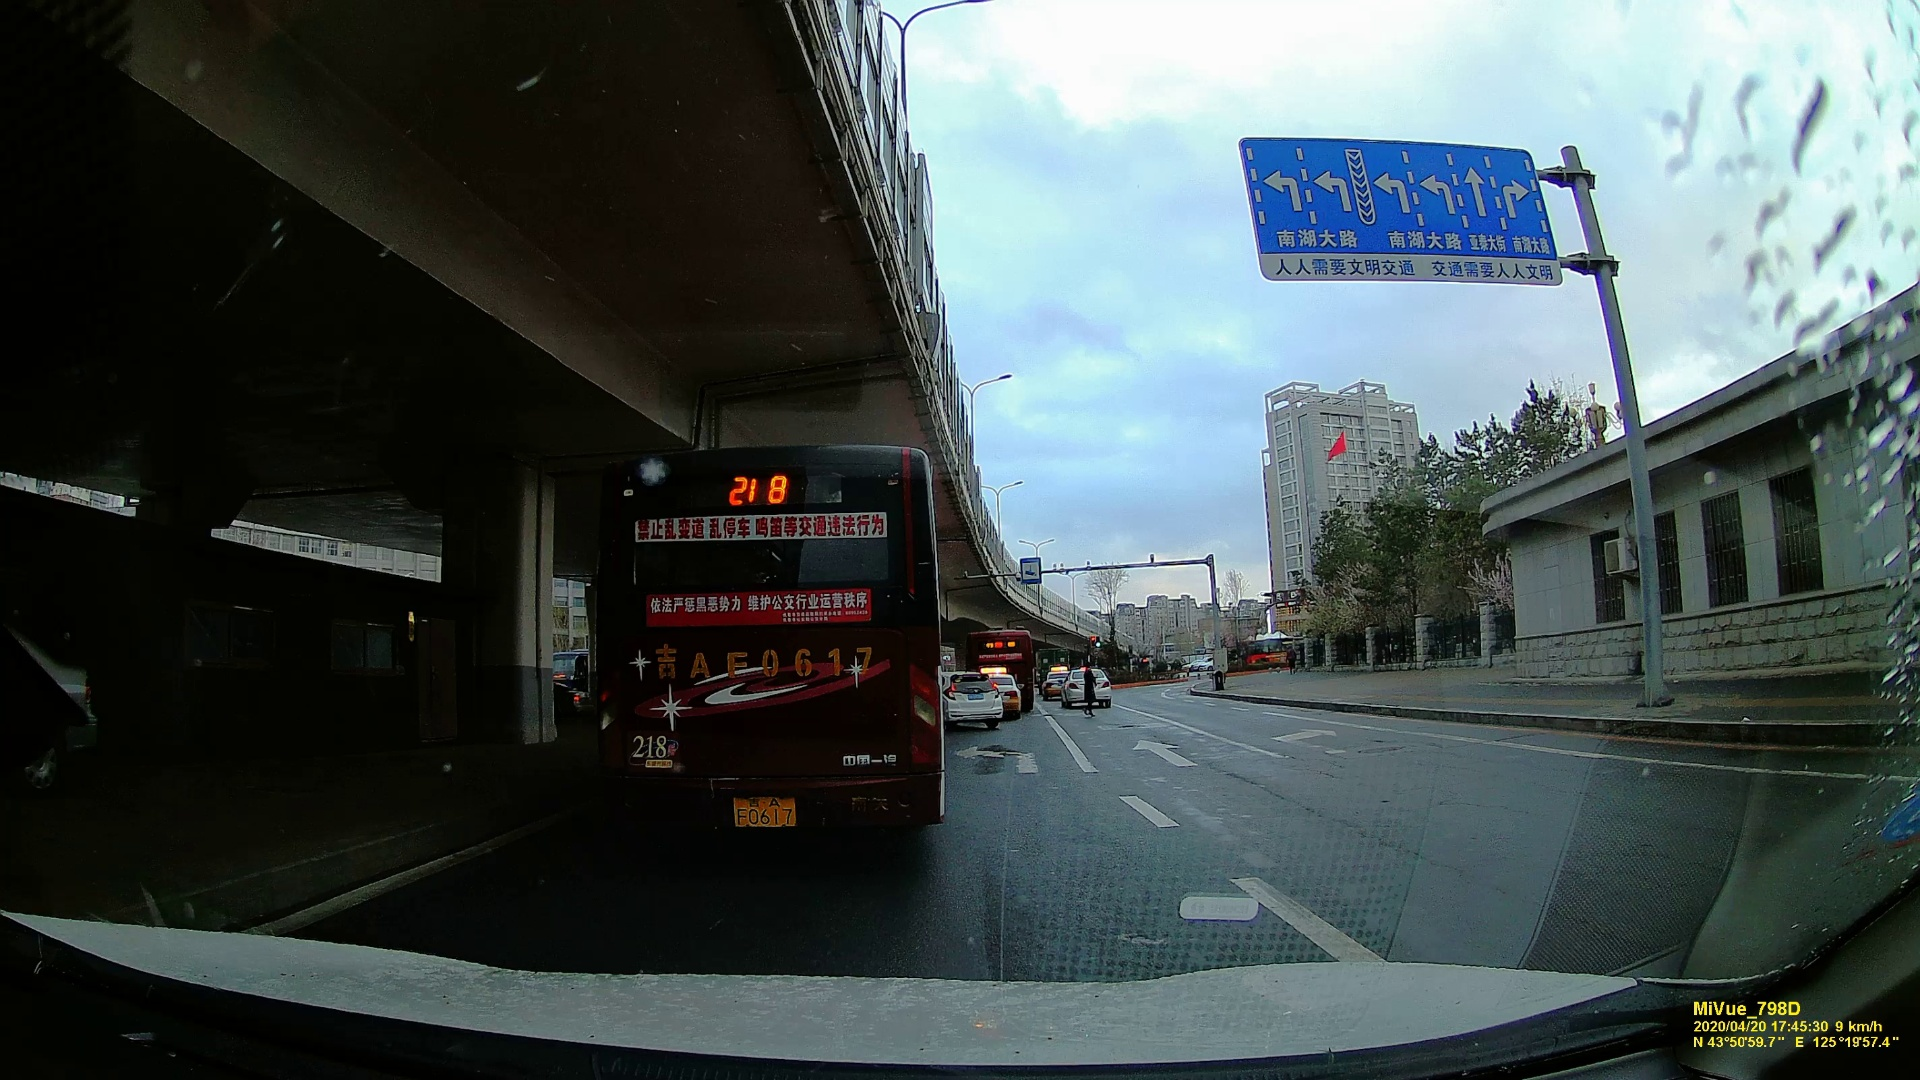bus: (584, 460, 936, 828), (963, 628, 1029, 710)
person: (1078, 664, 1098, 719), (1283, 642, 1299, 674)
traffic_sign: (1258, 138, 1542, 280), (1018, 556, 1040, 584)
vehicle: (936, 672, 1005, 727)
